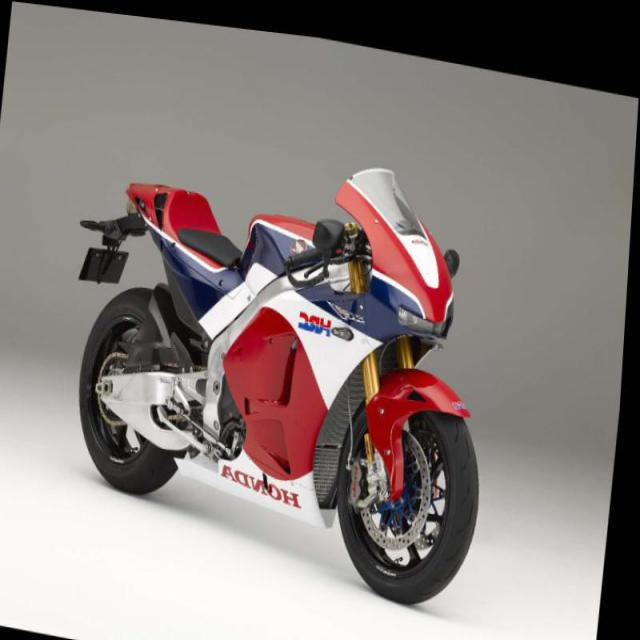HRC RCV 213: (56, 108, 512, 604)
